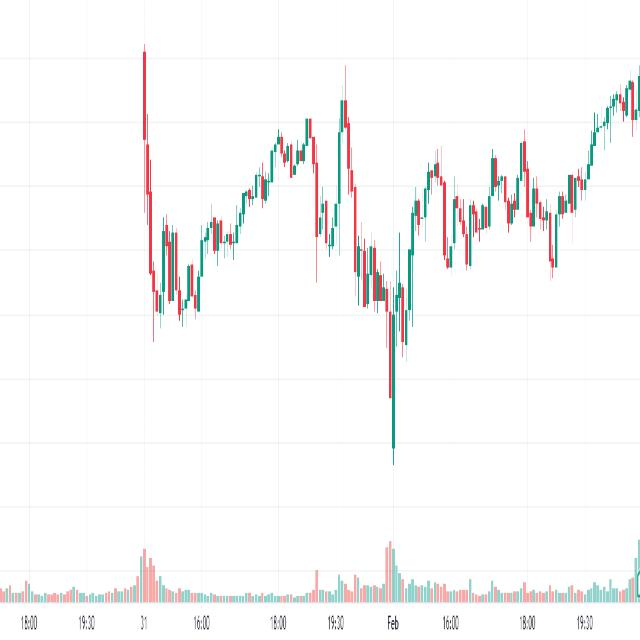Inverse-Head-Shoulders: (342, 61, 440, 469), (521, 109, 583, 293)
Triangle: (437, 139, 504, 321)
